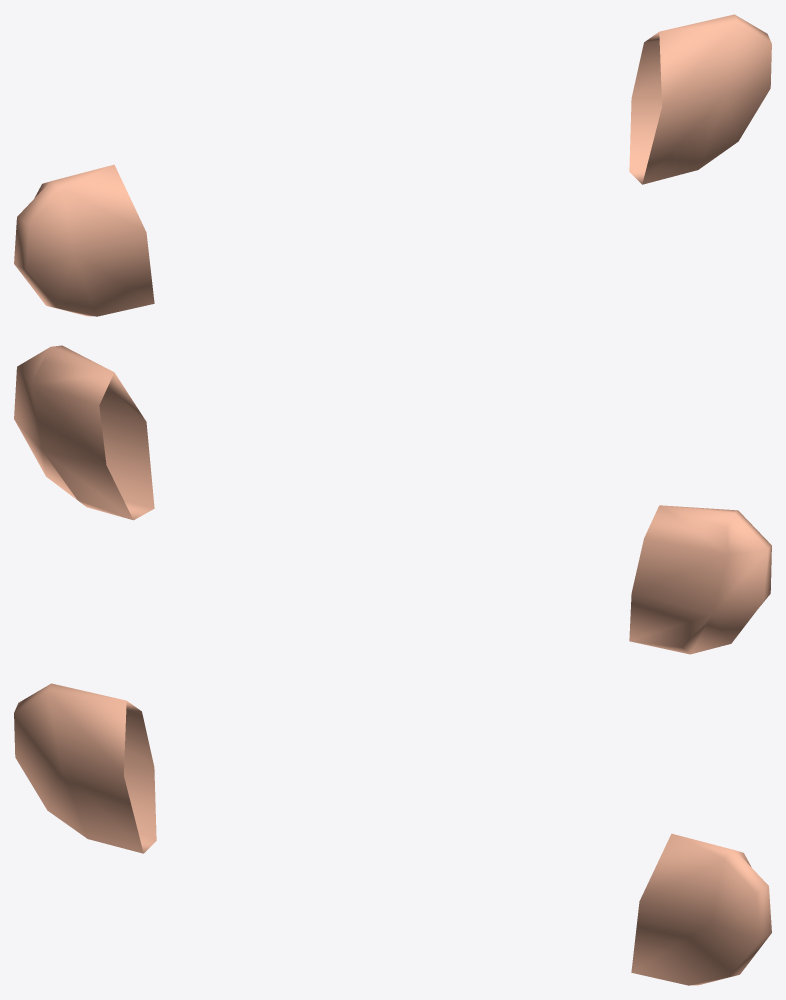
File: AF_M_ear_01.FBX
3 renders of one model, top to bottom at view 1: azimuth 30°, elevation 25°; view 2: azimuth 150°, elevation 25°; view 3: azimuth 330°, elevation 25°, orthographic.
Visible parts, largest first — view 1: AF_M_ear_01; view 2: AF_M_ear_01; view 3: AF_M_ear_01.
Boxes of the visible parts, bbox=[...] form: AF_M_ear_01: bbox=[14, 14, 771, 316]; AF_M_ear_01: bbox=[14, 345, 771, 654]; AF_M_ear_01: bbox=[14, 683, 771, 985].
Bounding box in the file's own units: 751 × 141 × 61.22.
